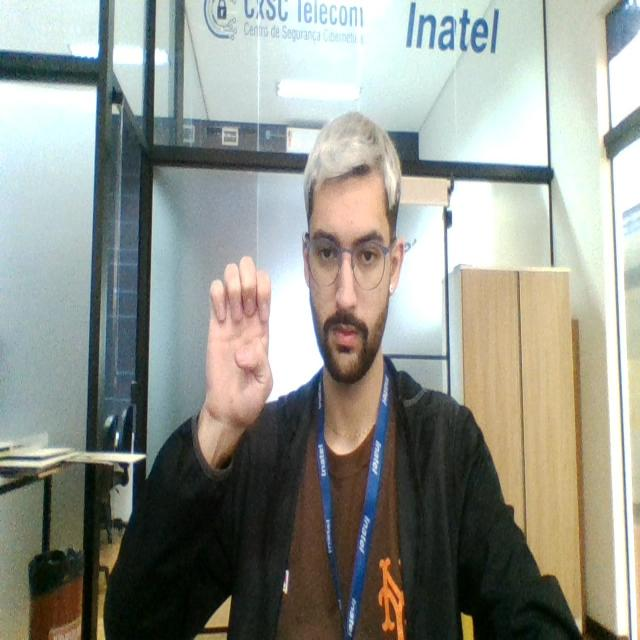E: (205, 249, 276, 437)
